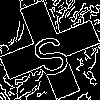S: (25, 25, 73, 80)
